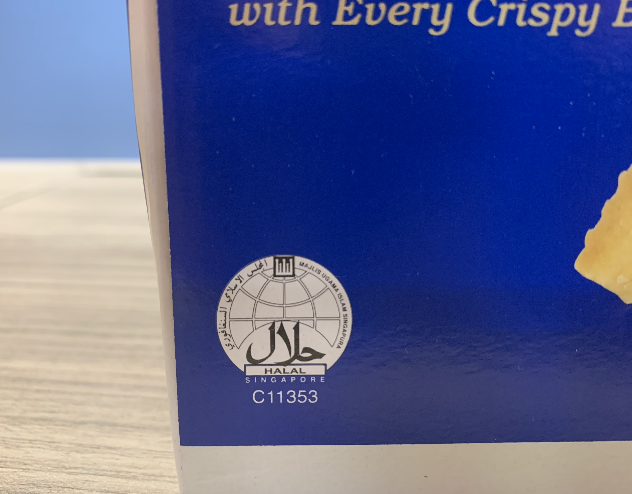halal: (241, 263, 331, 379)
